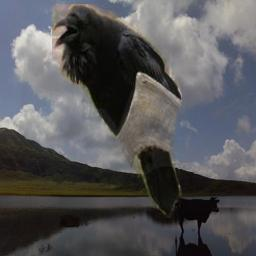Crow: (52, 4, 182, 218)
